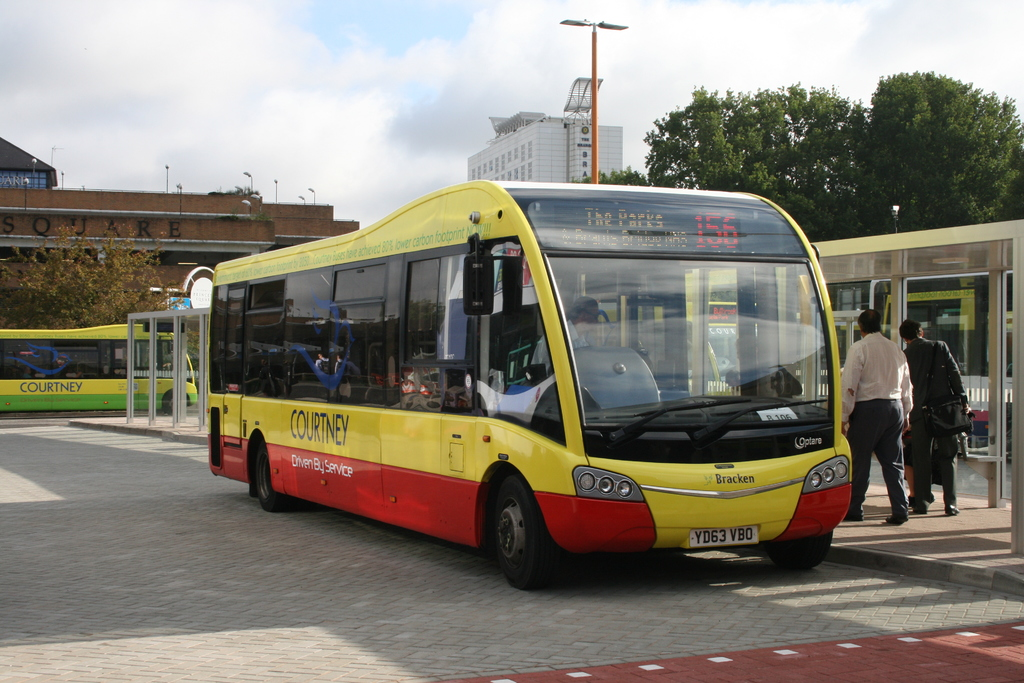Person: (897, 319, 975, 515), (841, 308, 912, 520), (529, 295, 600, 371)
